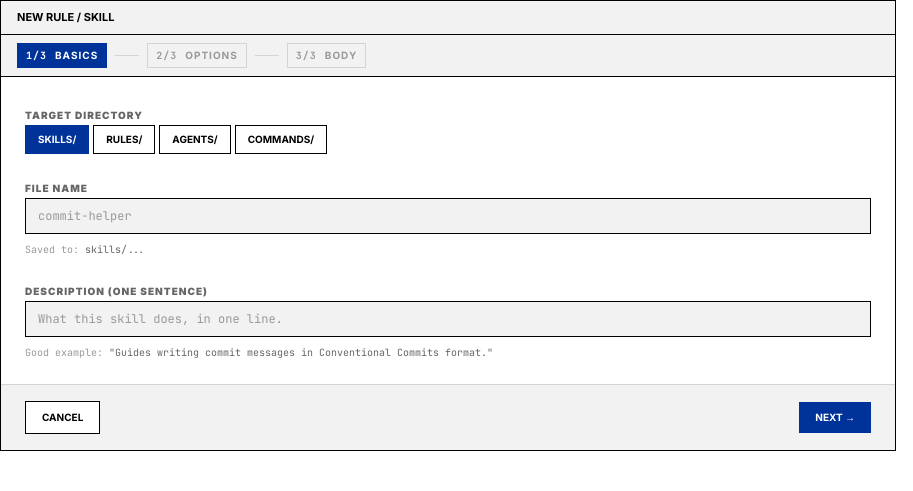
Test: SkillWizard › stays on the Basics step when name fails the regex
Type "Bad Name" into the field with placeholder "commit-helper" at {"x": 448, "y": 216}, box [25,198,871,234]
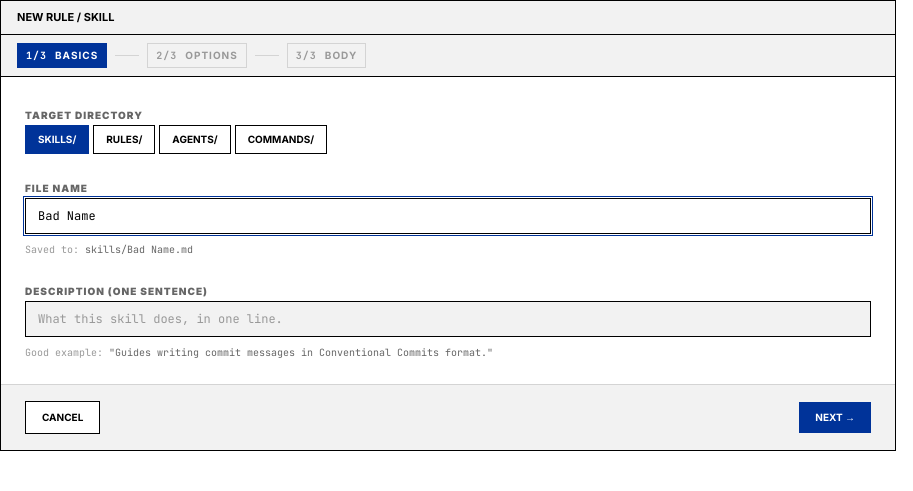
Type "ok" into the field with placeholder "What this skill does, in one line." at {"x": 448, "y": 318}, box [25,300,871,336]
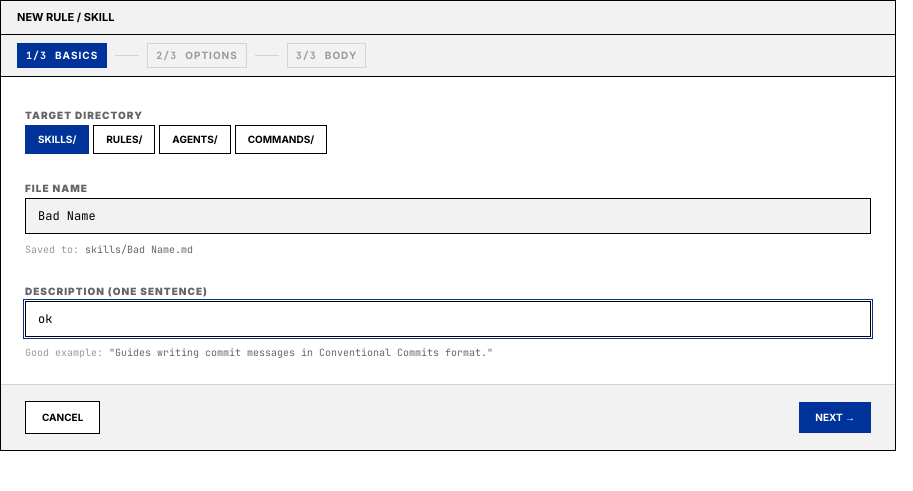
Click the button "Next →" at {"x": 835, "y": 417}, box [799,402,871,432]
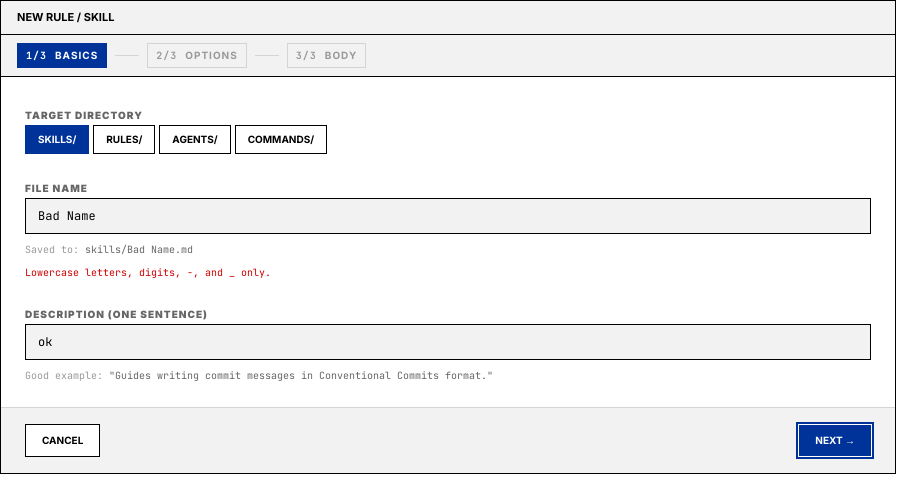
Expected: the text "Lowercase letters, digits, -, and _ only." is shown, [25,266,271,278]
